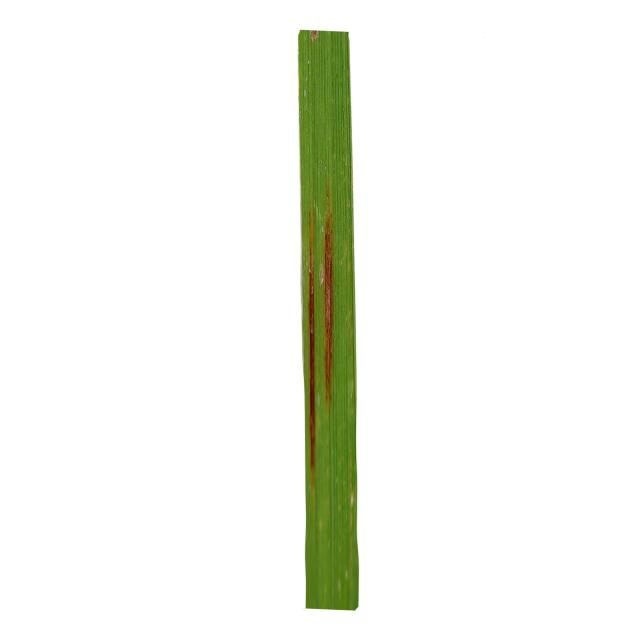Narrow brown: (228, 0, 464, 628)
